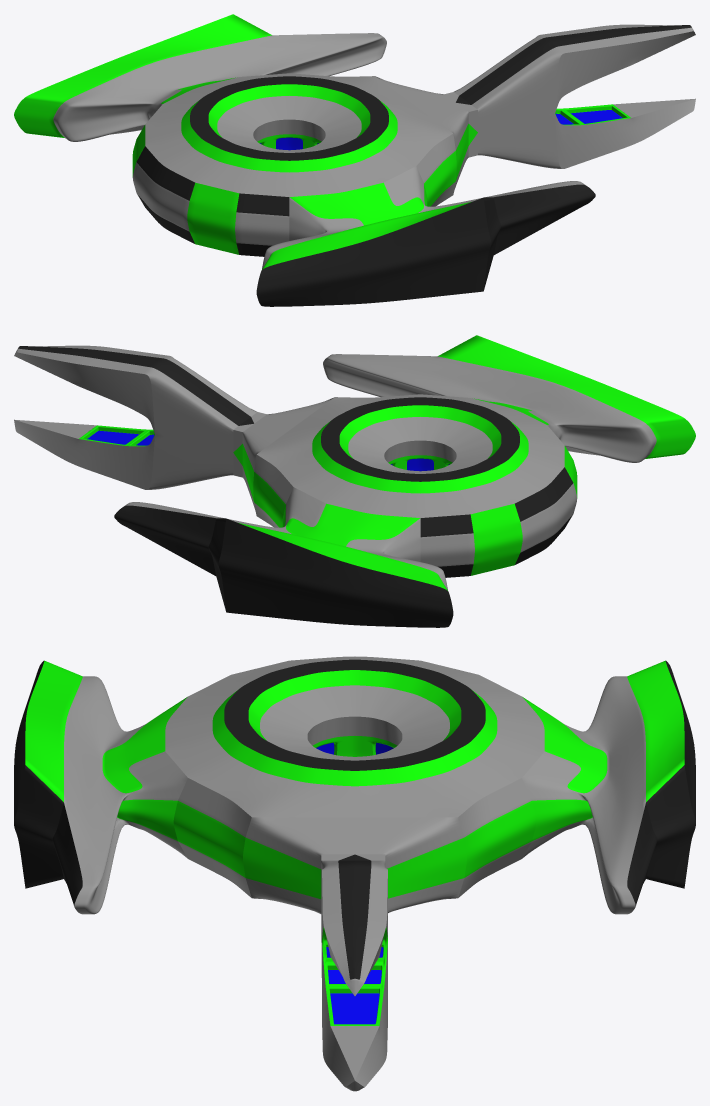
The model's file is Medium_Personel_Spaceship.FBX.
The picture shows the model from 3 angles, top to bottom: view 1: azimuth 30°, elevation 25°; view 2: azimuth 150°, elevation 25°; view 3: azimuth 270°, elevation 25°; orthographic projection. The views are drawn at different scales.
Visible parts, largest first — view 1: Cylinder001; view 2: Cylinder001; view 3: Cylinder001.
Part boxes in pixels (<box>): Cylinder001: <box>14,14,695,306</box>; Cylinder001: <box>14,335,695,627</box>; Cylinder001: <box>14,656,695,1091</box>.
Bounding box in the file's own units: 221 × 45.79 × 177.
